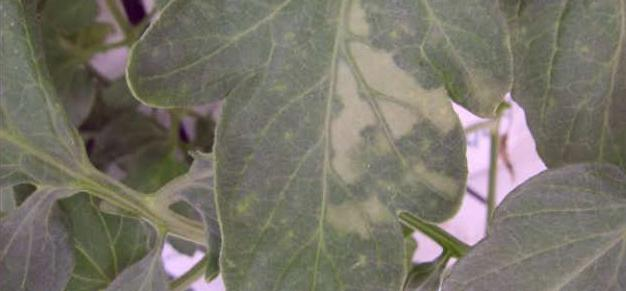Tomato leaf bacterial spot: (128, 0, 525, 291)
